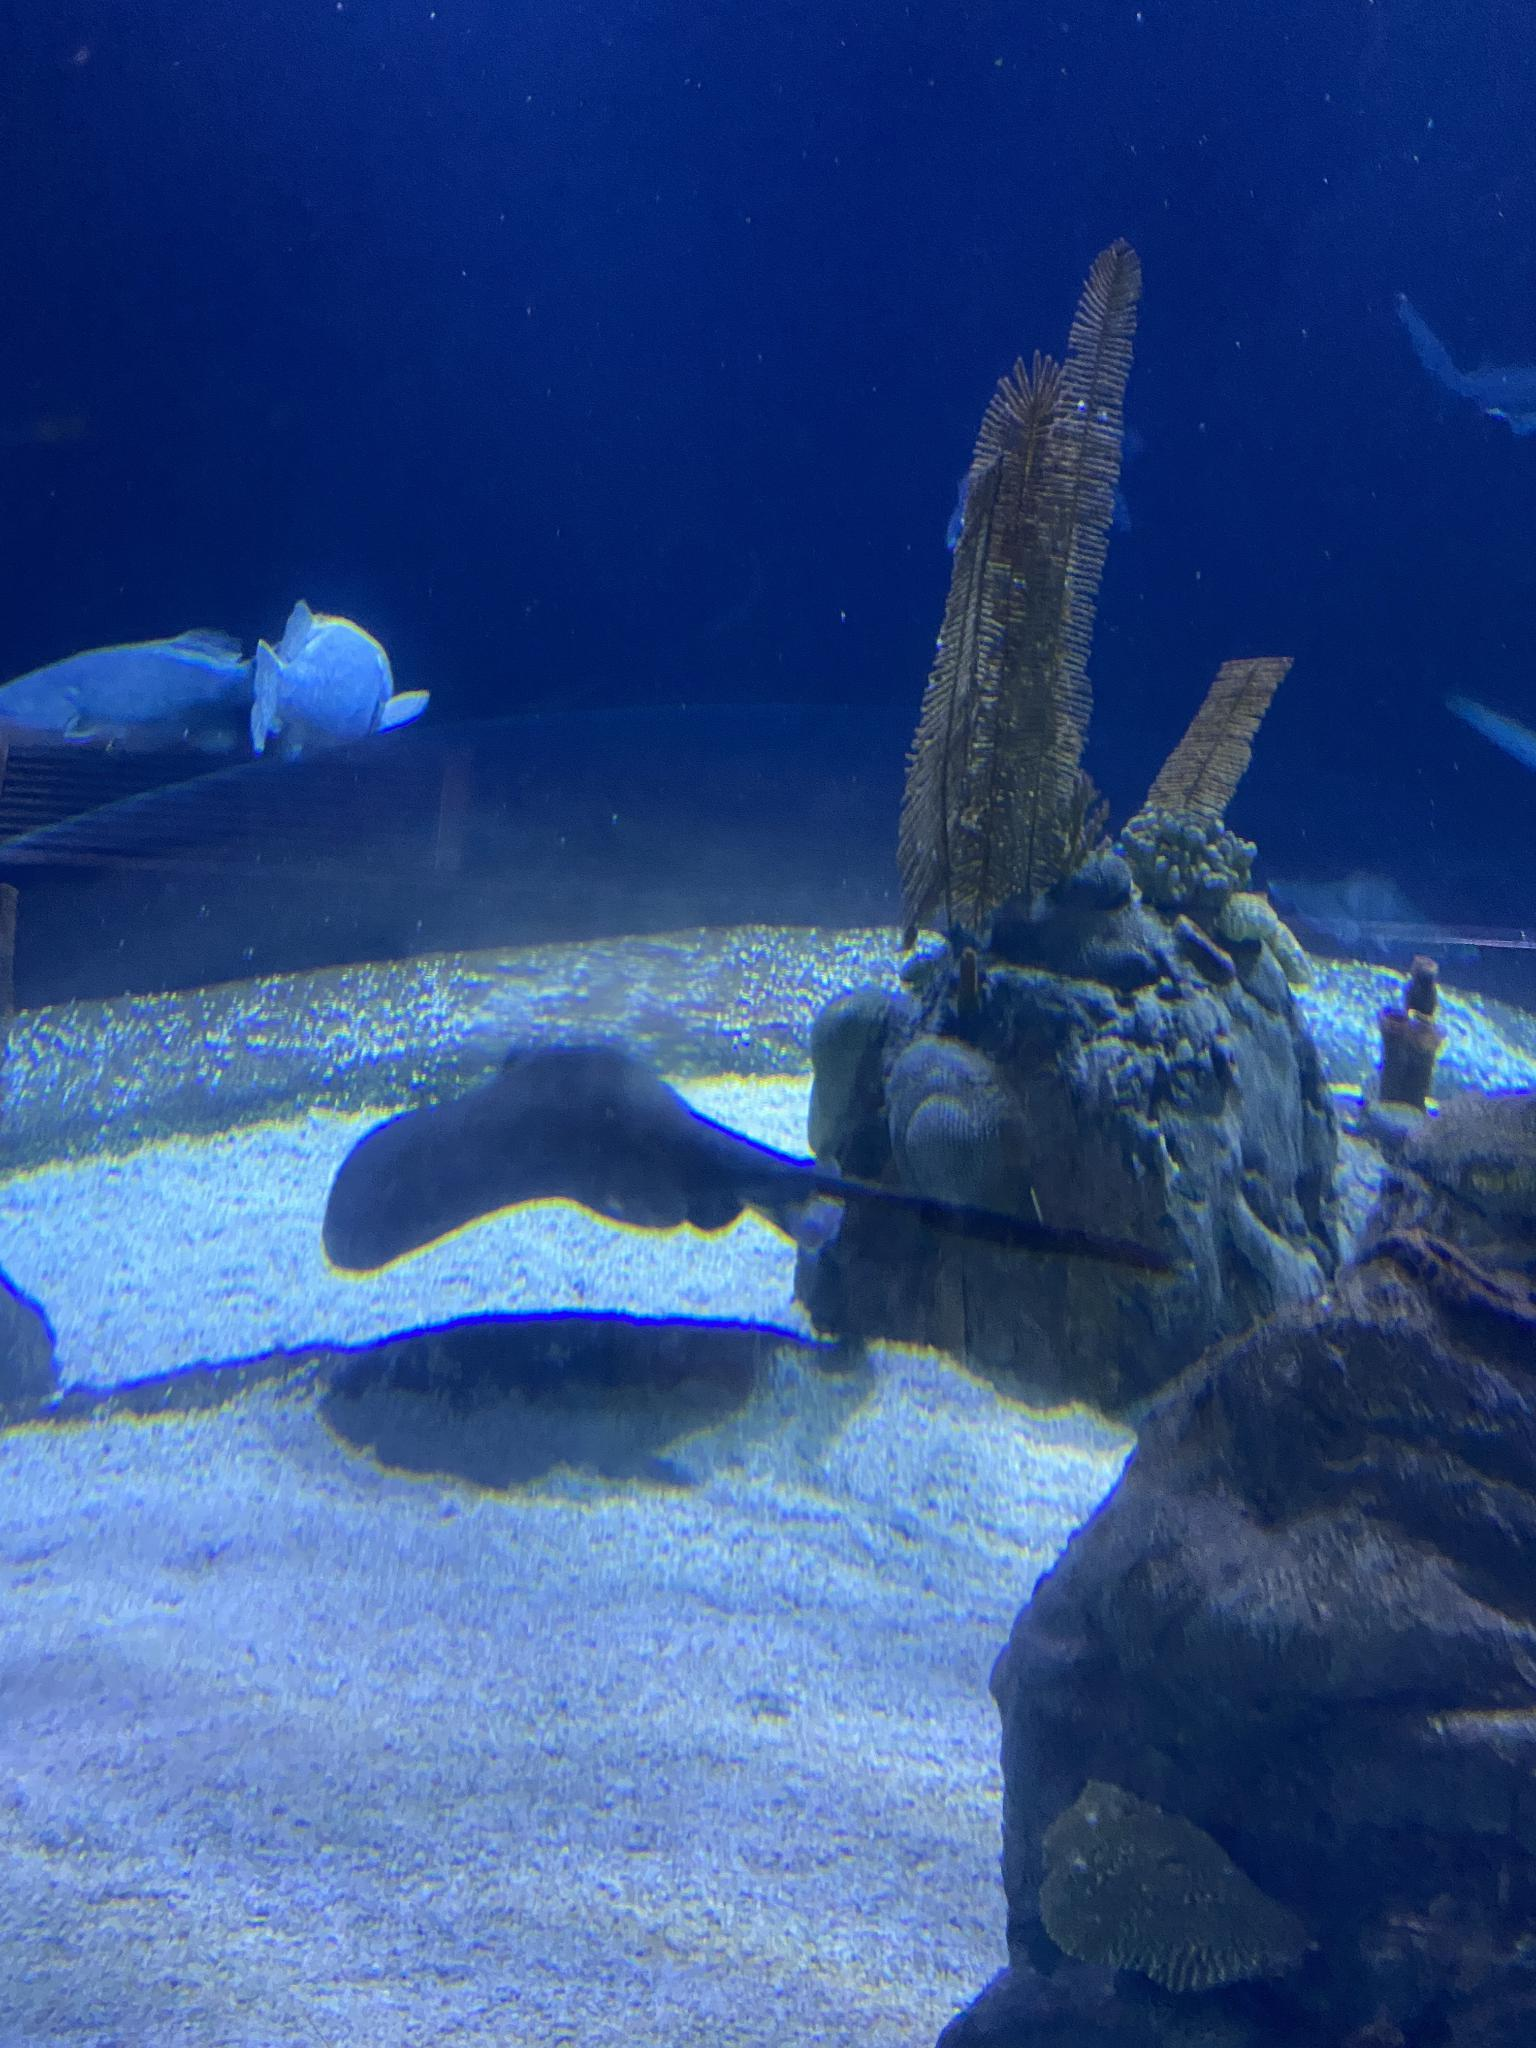fish: (0, 626, 244, 784), (248, 613, 434, 769)
stingray: (321, 1016, 805, 1250)
